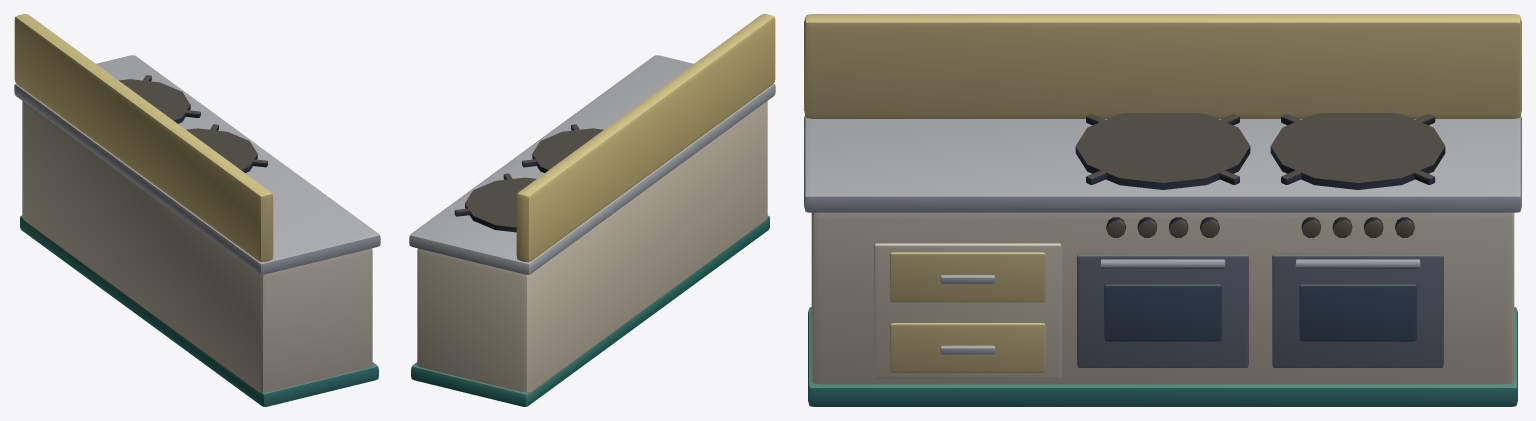
The model's file is Stove.fbx.
The picture shows the model from 3 angles, left to right: view 1: azimuth 30°, elevation 25°; view 2: azimuth 150°, elevation 25°; view 3: azimuth 270°, elevation 25°; orthographic projection. The views are drawn at different scales.
Parts seen in each view (by area): view 1: SM_Kitchen_Stove; view 2: SM_Kitchen_Stove; view 3: SM_Kitchen_Stove.
Boxes of the visible parts, x1=… form: SM_Kitchen_Stove: x1=14, y1=14, x2=380, y2=406; SM_Kitchen_Stove: x1=409, y1=14, x2=775, y2=406; SM_Kitchen_Stove: x1=804, y1=14, x2=1521, y2=406.
Bounding box in the file's own units: 2.79 × 4.4 × 9.2.
